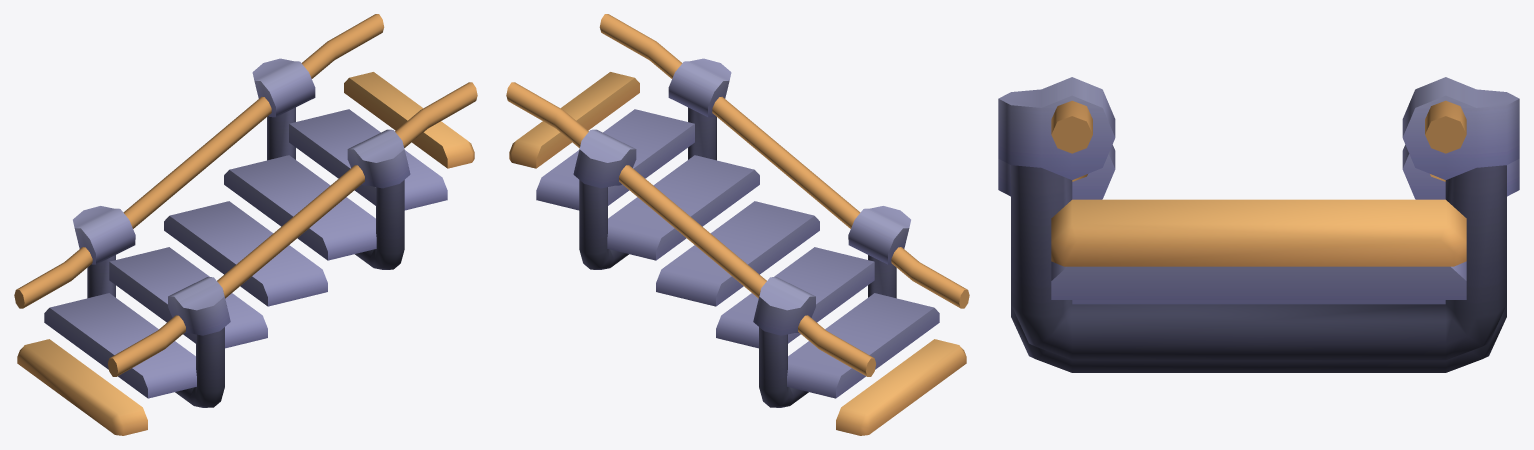
File: catwalk-stairs.glb
3 views of the same model, side by side, from view 1: azimuth 30°, elevation 25°; view 2: azimuth 150°, elevation 25°; view 3: azimuth 270°, elevation 25° (orthographic). The views are drawn at different scales.
Parts seen in each view (by area): view 1: catwalk-stairs; view 2: catwalk-stairs; view 3: catwalk-stairs.
Part boxes in pixels (x1,y1,x2,y2): catwalk-stairs: (14, 14, 477, 435); catwalk-stairs: (506, 14, 969, 435); catwalk-stairs: (998, 77, 1519, 372).
Bounding box in the file's own units: 2 × 1.4 × 1.26.
Materials: 1 (1 with a texture image).
